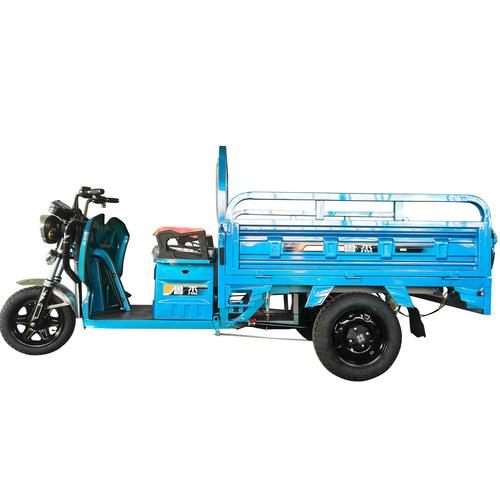empty: (7, 27, 496, 423)
